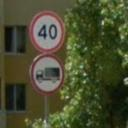speed_limit_40: (26, 8, 66, 56)
